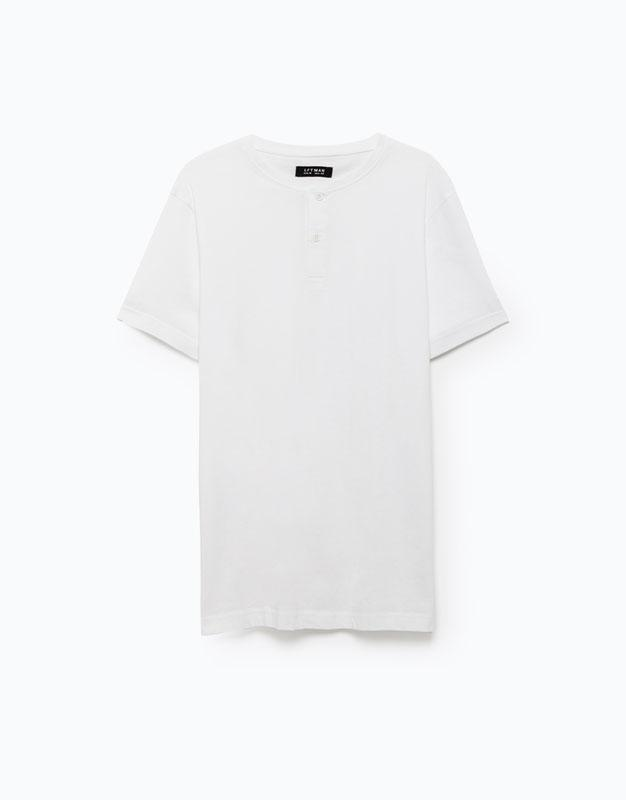teeshirt: (98, 126, 541, 673)
